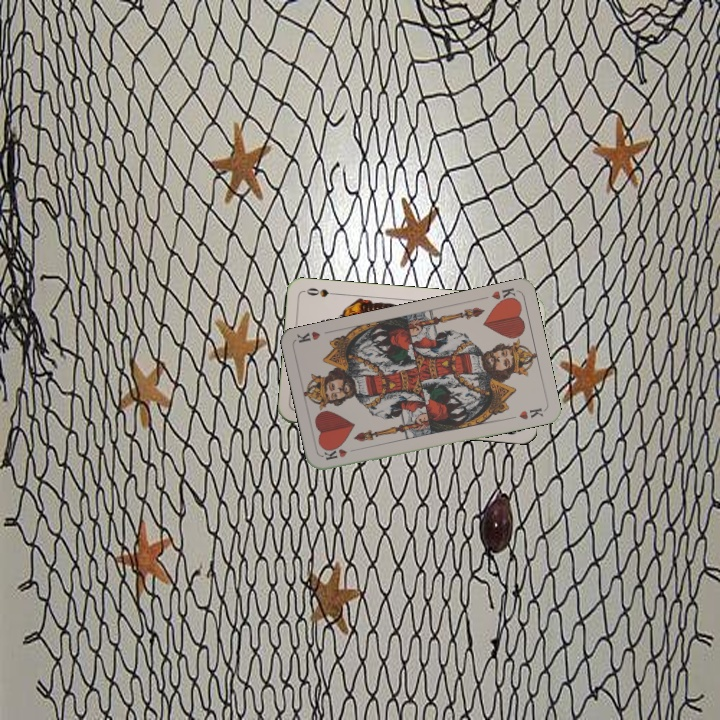HK: (320, 444, 360, 463), (488, 284, 520, 307)
